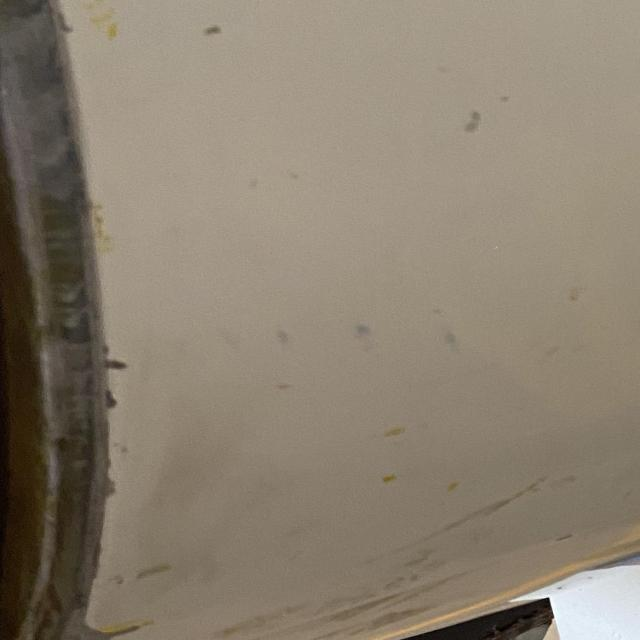Paint-off: (60, 620, 145, 640), (459, 108, 481, 133)
